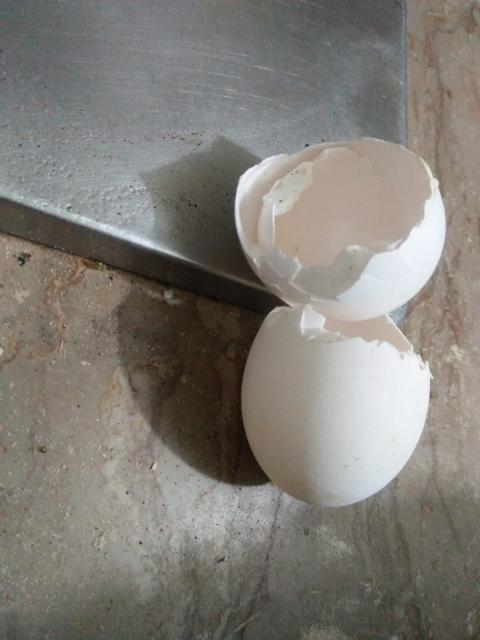Roto: (232, 135, 447, 507), (233, 135, 447, 322)
